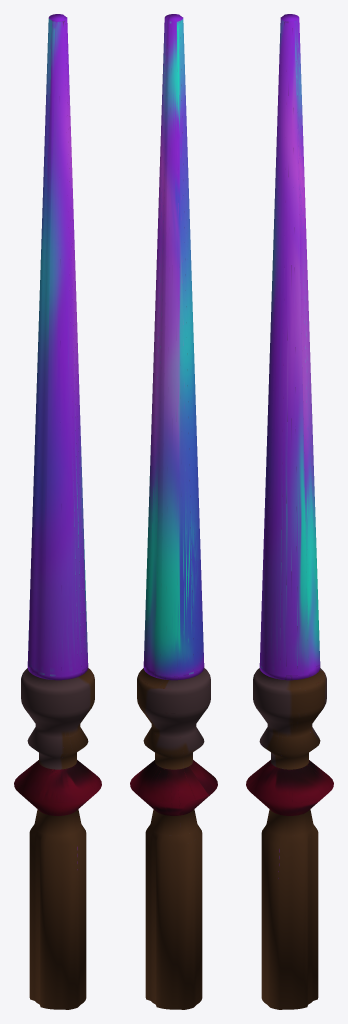
Rendered from Wand.fbx.
The picture shows the model from 3 angles, left to right: view 1: azimuth 30°, elevation 25°; view 2: azimuth 210°, elevation 25°; view 3: azimuth 330°, elevation 25°; orthographic projection.
Parts seen in each view (by area): view 1: Wand; view 2: Wand; view 3: Wand.
Boxes of the visible parts, x1,y1,x2,y2 form: Wand: (14, 14, 101, 1009); Wand: (130, 14, 217, 1009); Wand: (246, 14, 333, 1009).
Bounding box in the file's own units: 0.502 × 0.4989 × 6.15.
